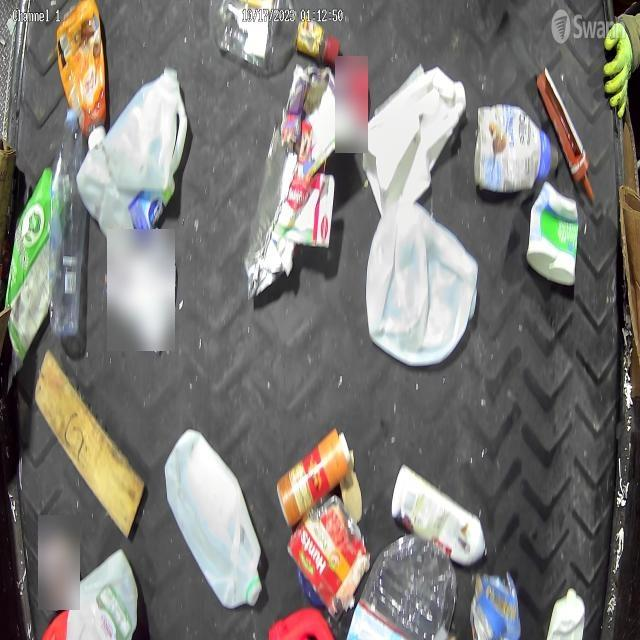milk_jug: (367, 204, 477, 366), (166, 430, 264, 607), (102, 67, 188, 192), (64, 549, 138, 639)
non_white_jug: (56, 1, 106, 139)
plastic_bottle: (51, 108, 88, 337)
